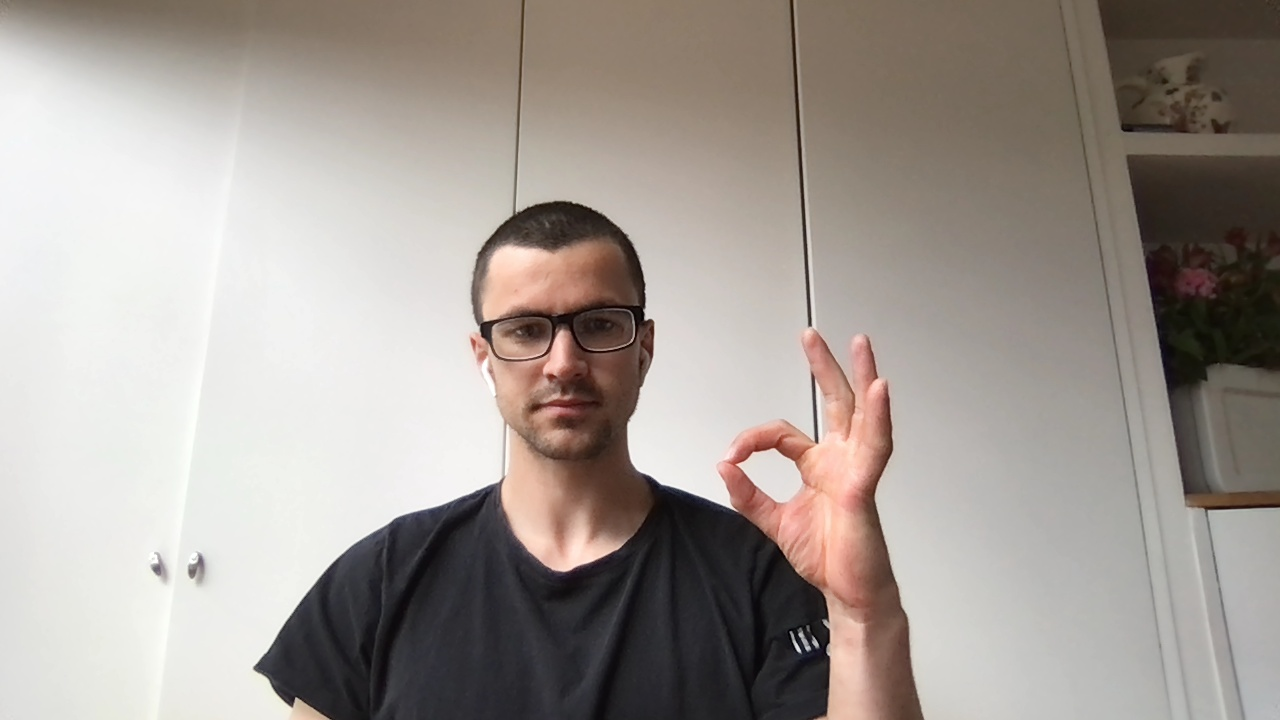thankYou: (716, 326, 894, 613)
